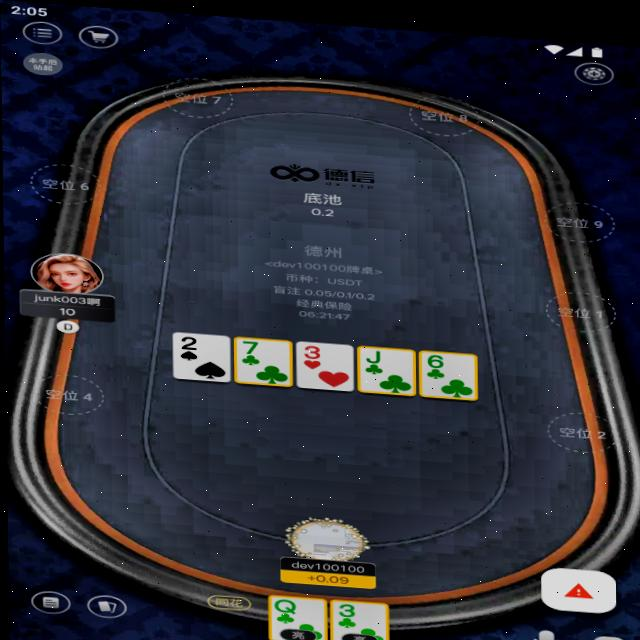2s: (176, 332, 202, 350)
3h: (299, 338, 326, 357)
3m: (333, 597, 357, 614)
6m: (424, 346, 447, 363)
7m: (235, 335, 268, 353)
Jm: (361, 342, 387, 360)
Qm: (270, 593, 296, 610)
